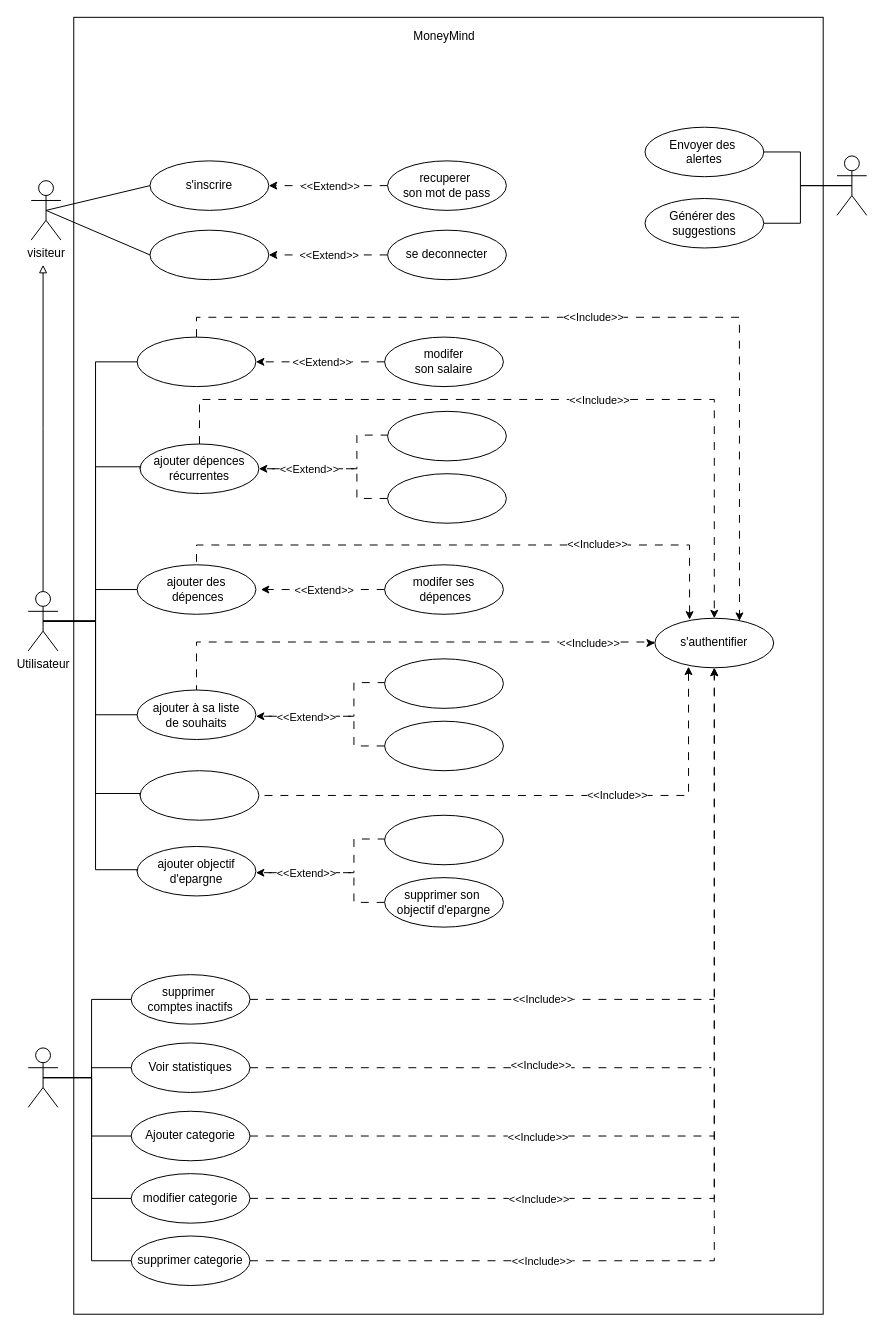
Some shapes in this 892 by 1332 pixel diagram are drawn without their labels. The box of each missing label's shape, as (x1, y1, x2, y2) in pixels:
Admin: (27, 1047, 58, 1107)
ajouter son salaire: (136, 336, 256, 387)
configuer les alertes: (139, 770, 259, 820)
modifer dépences récurrentes: (387, 410, 506, 461)
modifer sa liste de souhaits: (384, 658, 503, 708)
modifer son objectif d'epargne: (384, 814, 503, 865)
se connecter: (149, 229, 269, 280)
supprimer de sa liste de souhaits: (384, 720, 503, 771)
supprimer dépences récurrentes: (387, 473, 506, 523)
Système: (836, 155, 867, 215)
